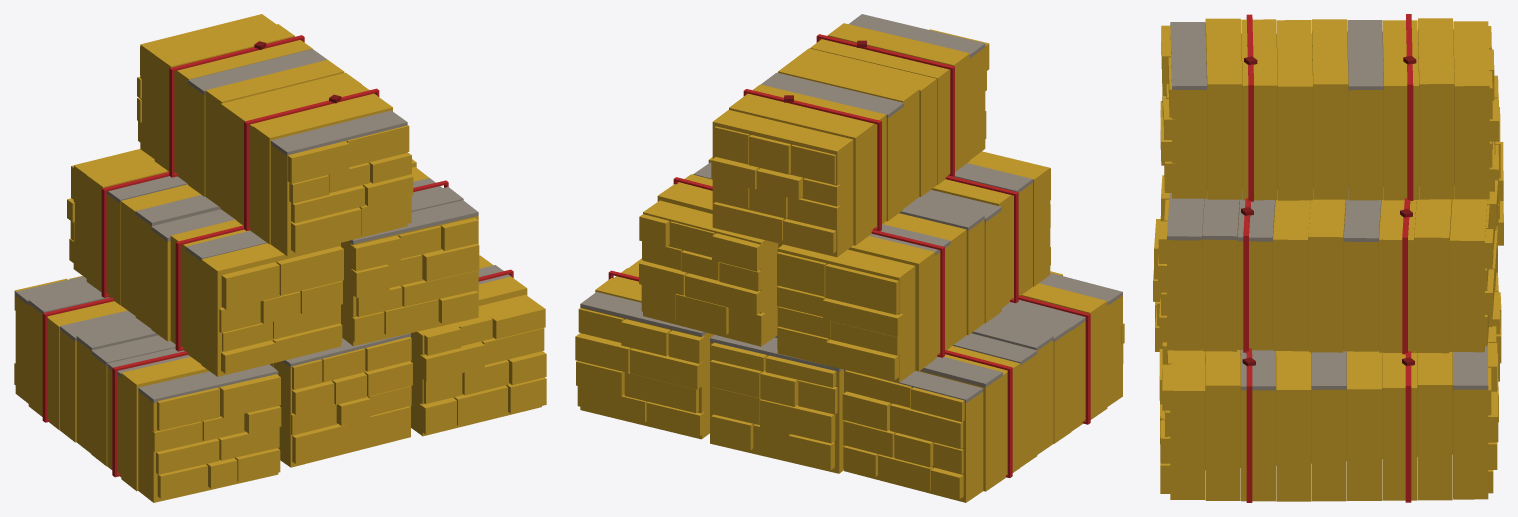
The picture shows the model from 3 angles, left to right: view 1: azimuth 30°, elevation 25°; view 2: azimuth 150°, elevation 25°; view 3: azimuth 270°, elevation 25°; orthographic projection. The views are drawn at different scales.
Visible parts, largest first — view 1: bale_6_gold, bale_4_gold, bale_1_gold, bale_3_gold, bale_5_gold, bale_2_gold, bale_1_russet, bale_4_russet, bale_6_russet, bale_5_russet, twine_6_apple_red, twine_1_apple_red (+2 smaller); view 2: bale_6_gold, bale_4_gold, bale_1_gold, bale_5_gold, bale_3_gold, bale_2_gold, bale_1_russet, bale_4_russet, bale_6_russet, twine_6_apple_red, twine_1_apple_red, twine_4_apple_red (+2 smaller); view 3: bale_6_gold, bale_3_gold, bale_5_gold, bale_5_russet, bale_6_russet, bale_3_russet, twine_6_apple_red, twine_3_apple_red, twine_5_apple_red, bale_4_gold, bale_1_gold, bale_2_gold.
Part boxes in pixels (x1,y1,x2,y2): bale_6_gold: (137,14,413,256); bale_4_gold: (67,149,343,376); bale_1_gold: (14,276,281,502); bale_3_gold: (411,255,546,436); bale_5_gold: (341,159,479,346); bale_2_gold: (270,336,412,467); bale_1_russet: (15,276,278,402); bale_4_russet: (106,176,266,260); bale_6_russet: (188,49,407,155); bale_5_russet: (349,178,478,244); twine_6_apple_red: (169,35,379,230); twine_1_apple_red: (42,297,188,477); bale_6_gold: (711,23,989,257); bale_4_gold: (777,151,1050,382); bale_1_gold: (842,271,1124,502); bale_5_gold: (639,157,782,346); bale_3_gold: (575,258,713,439); bale_2_gold: (710,342,843,473); bale_1_russet: (844,273,1122,403); bale_4_russet: (869,163,1032,255); bale_6_russet: (761,14,985,118); twine_6_apple_red: (743,34,954,231); twine_1_apple_red: (945,295,1090,477); twine_4_apple_red: (871,175,1018,357); bale_6_gold: (1160,18,1499,200); bale_3_gold: (1159,326,1498,501); bale_5_gold: (1157,175,1497,353); bale_5_russet: (1167,188,1381,241); bale_6_russet: (1170,20,1383,90); bale_3_russet: (1240,344,1488,390); twine_6_apple_red: (1246,14,1413,201); twine_3_apple_red: (1246,348,1411,502); twine_5_apple_red: (1243,198,1410,354); bale_4_gold: (1494,107,1503,272); bale_1_gold: (1153,219,1162,351); bale_2_gold: (1205,272,1501,422).
Bounding box in the file's own units: 1.41 × 1.1 × 0.9926.
